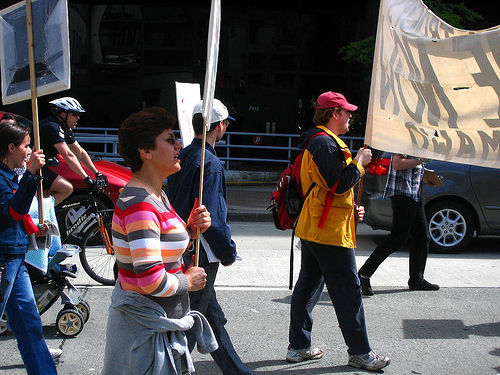without_mask: (134, 118, 183, 182), (3, 126, 35, 175), (196, 102, 232, 145), (316, 97, 355, 136), (57, 103, 82, 132)
